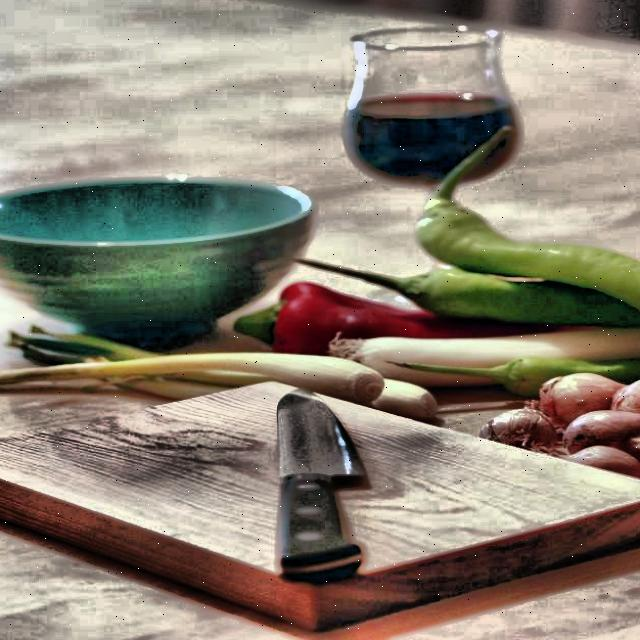knife: (264, 388, 384, 593)
